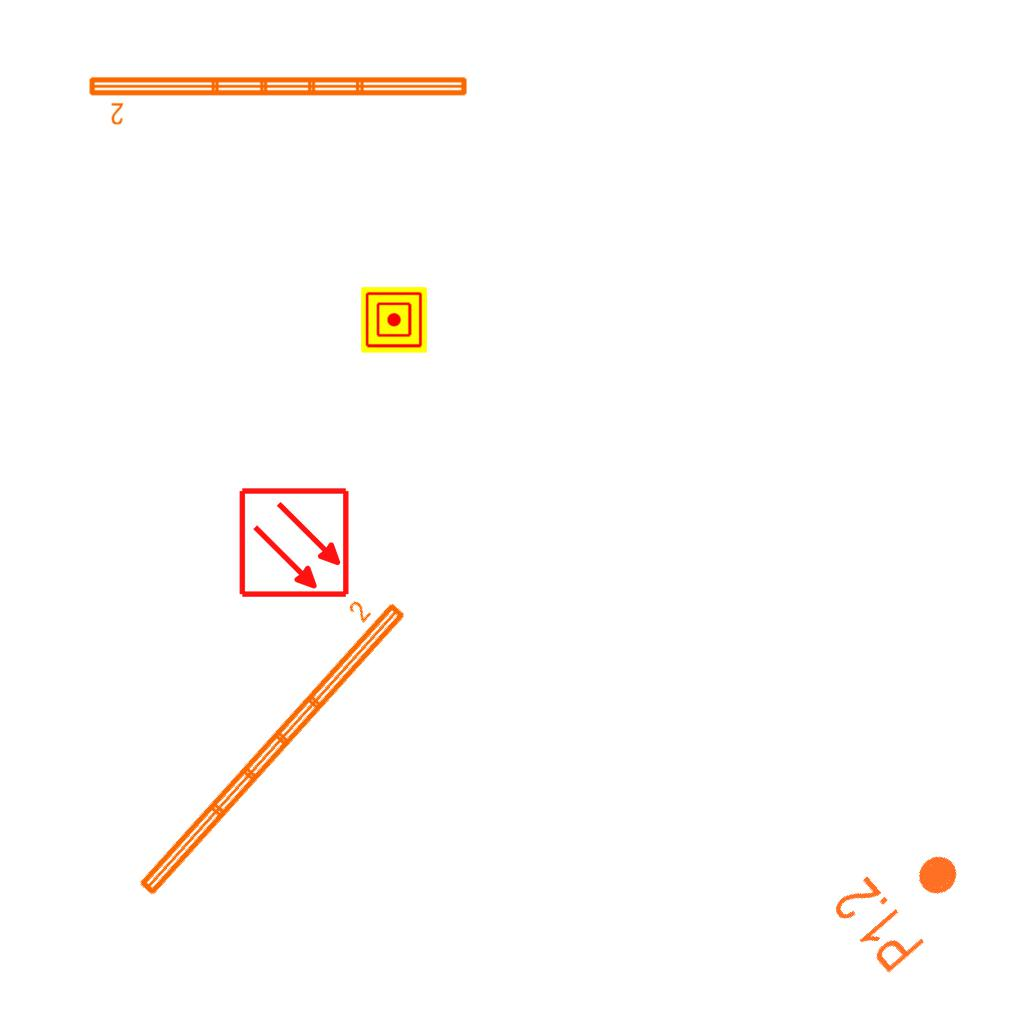Ambulanz_Pendelleuchte_LED: (112, 578, 413, 904), (85, 71, 472, 127)
Downlight_LED_Einbauleuchten_Flur: (826, 823, 985, 979)
NAM-Nichtautomatischer_Melder: (361, 287, 427, 353)
RMO_Rauchmelder_optischer: (238, 486, 351, 599)
